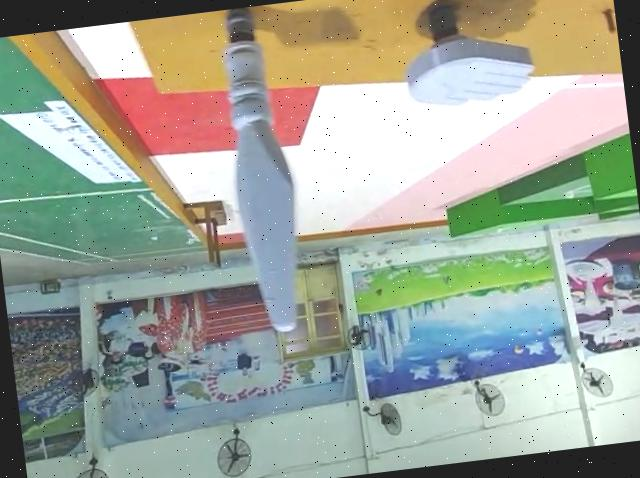Hand: (391, 0, 532, 117)
Sph: (200, 5, 311, 341)
